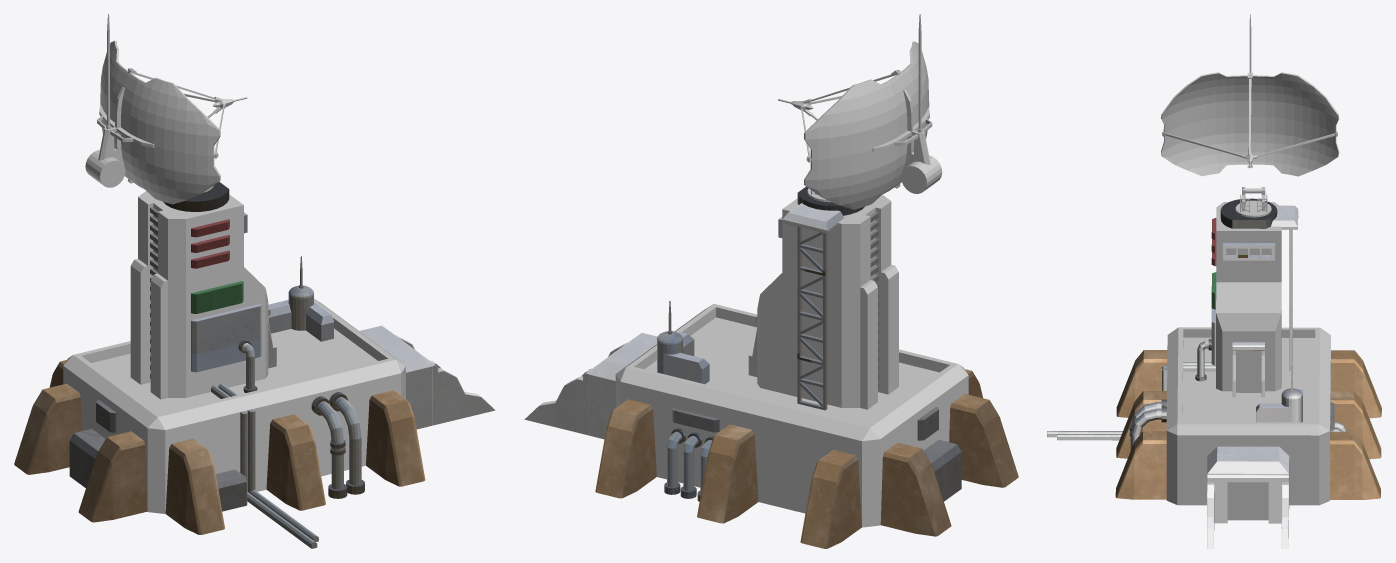
File: House1.fbx
The picture shows the model from 3 angles, left to right: view 1: azimuth 30°, elevation 25°; view 2: azimuth 150°, elevation 25°; view 3: azimuth 270°, elevation 25°; orthographic projection. The views are drawn at different scales.
Parts seen in each view (by area): view 1: Radar_building__Cube.027, Radar_)))_radar_Cylinder.002; view 2: Radar_building__Cube.027, Radar_)))_radar_Cylinder.002; view 3: Radar_building__Cube.027, Radar_)))_radar_Cylinder.002, Engine_=__radar_Cylinder.008.
Boxes of the visible parts, box(x1,y1,x2,y2) form: Radar_building__Cube.027: box(14, 181, 495, 548); Radar_)))_radar_Cylinder.002: box(85, 14, 247, 204); Radar_building__Cube.027: box(524, 186, 1018, 548); Radar_)))_radar_Cylinder.002: box(778, 14, 942, 209); Radar_building__Cube.027: box(1047, 198, 1381, 548); Radar_)))_radar_Cylinder.002: box(1161, 14, 1339, 176); Engine_=__radar_Cylinder.008: box(1235, 187, 1271, 217).
Size of the model in its own units: 1420 by 1524 by 1181.
